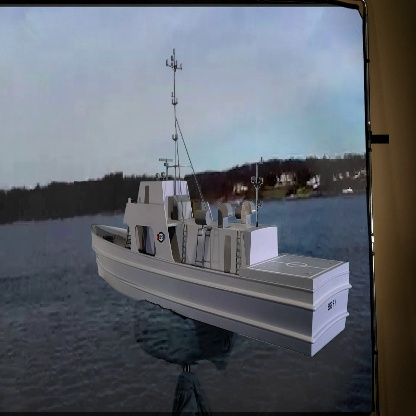YP689: (91, 52, 353, 366)
